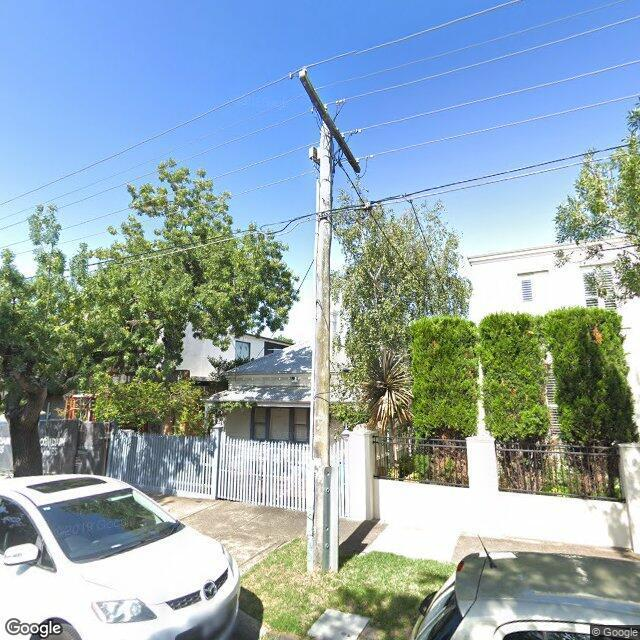crossarm: (291, 69, 374, 174)
timber-pole: (311, 121, 332, 573)
